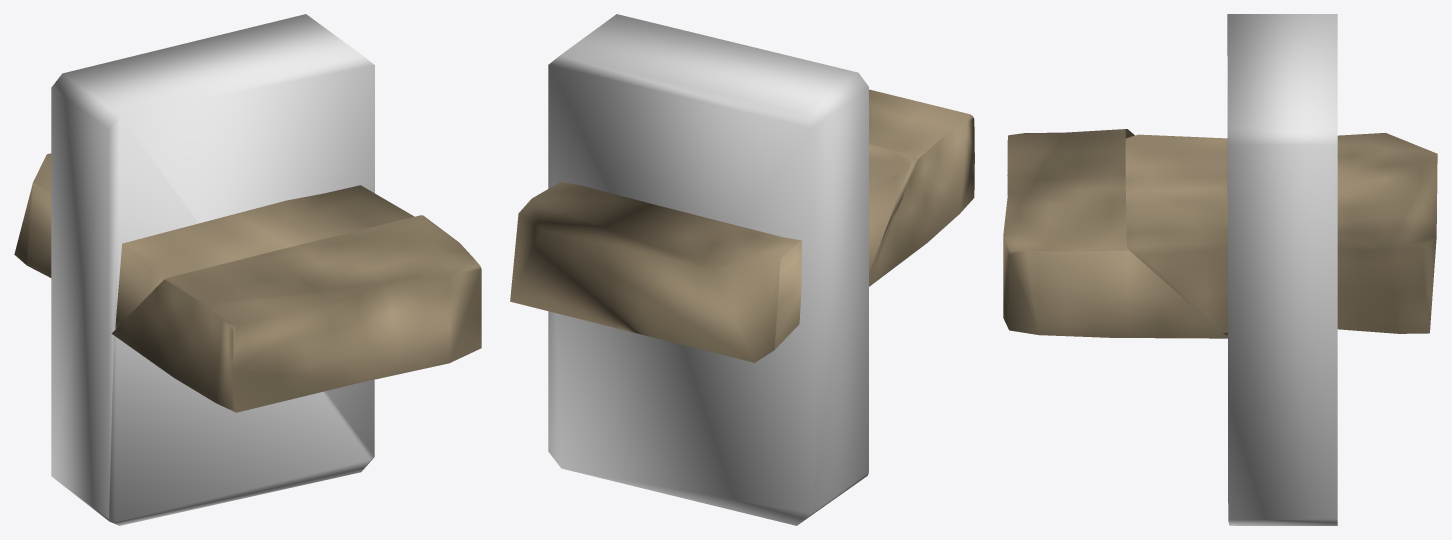
The model's file is SM_CigarettesPack.fbx.
3 renders of one model, left to right at view 1: azimuth 30°, elevation 25°; view 2: azimuth 150°, elevation 25°; view 3: azimuth 270°, elevation 25°, orthographic. The views are drawn at different scales.
Parts seen in each view (by area): view 1: SM_CigarettesPack_ConvexHulls, SM_CigarettesPack; view 2: SM_CigarettesPack_ConvexHulls, SM_CigarettesPack; view 3: SM_CigarettesPack, SM_CigarettesPack_ConvexHulls.
Boxes of the visible parts, x1,y1,x2,y2 form: SM_CigarettesPack_ConvexHulls: (51, 14, 374, 525); SM_CigarettesPack: (14, 153, 481, 412); SM_CigarettesPack_ConvexHulls: (548, 14, 868, 525); SM_CigarettesPack: (510, 89, 974, 362); SM_CigarettesPack: (1003, 129, 1437, 338); SM_CigarettesPack_ConvexHulls: (1227, 14, 1337, 525).
Size of the model in its own units: 0.0936 by 0.1399 by 0.138.
